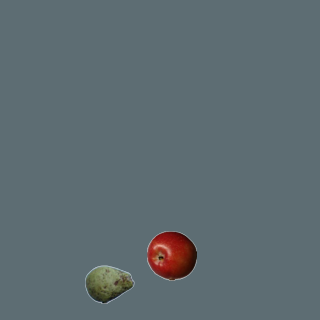Apple Braeburn: (146, 230, 196, 280)
Pear Stone: (84, 259, 134, 309)
